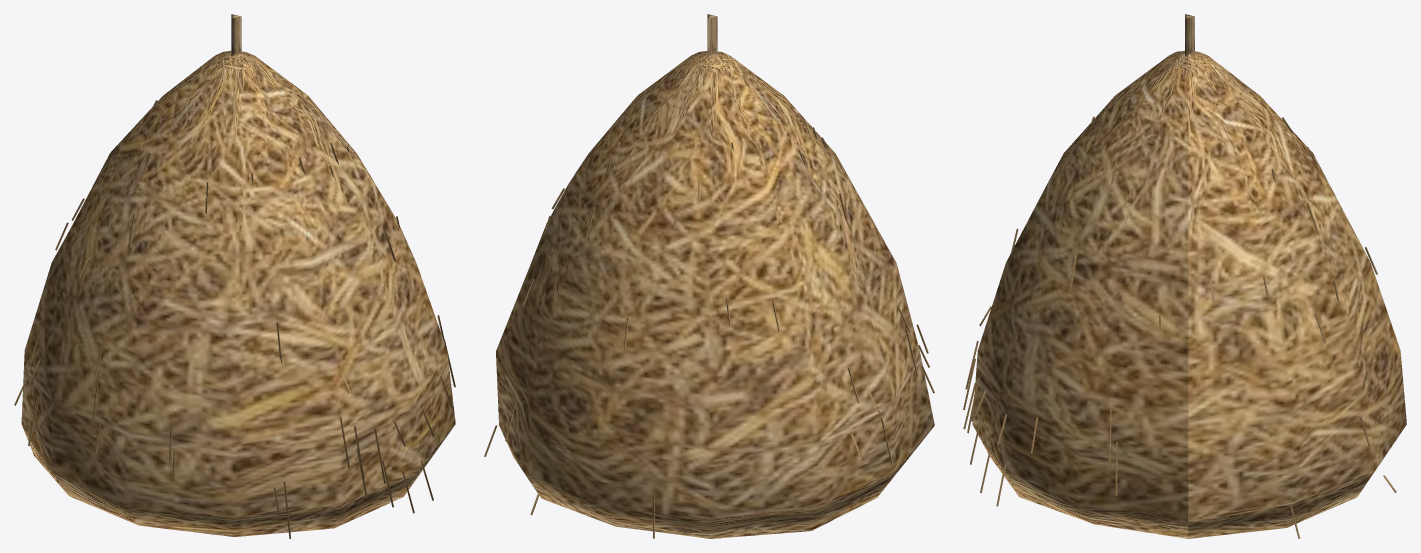
The model's file is prop_haystack_lod2.glb.
3 renders of one model, left to right at view 1: azimuth 30°, elevation 25°; view 2: azimuth 150°, elevation 25°; view 3: azimuth 270°, elevation 25°, orthographic.
Parts seen in each view (by area): view 1: prop_haystack; view 2: prop_haystack; view 3: prop_haystack.
Part boxes in pixels (left/top/right/bottom): prop_haystack: left=14, top=14, right=455, bottom=538; prop_haystack: left=484, top=14, right=934, bottom=538; prop_haystack: left=963, top=14, right=1406, bottom=538.
Size of the model in its own units: 2.3 by 2.5 by 2.29.
2 materials, 2 textured.
